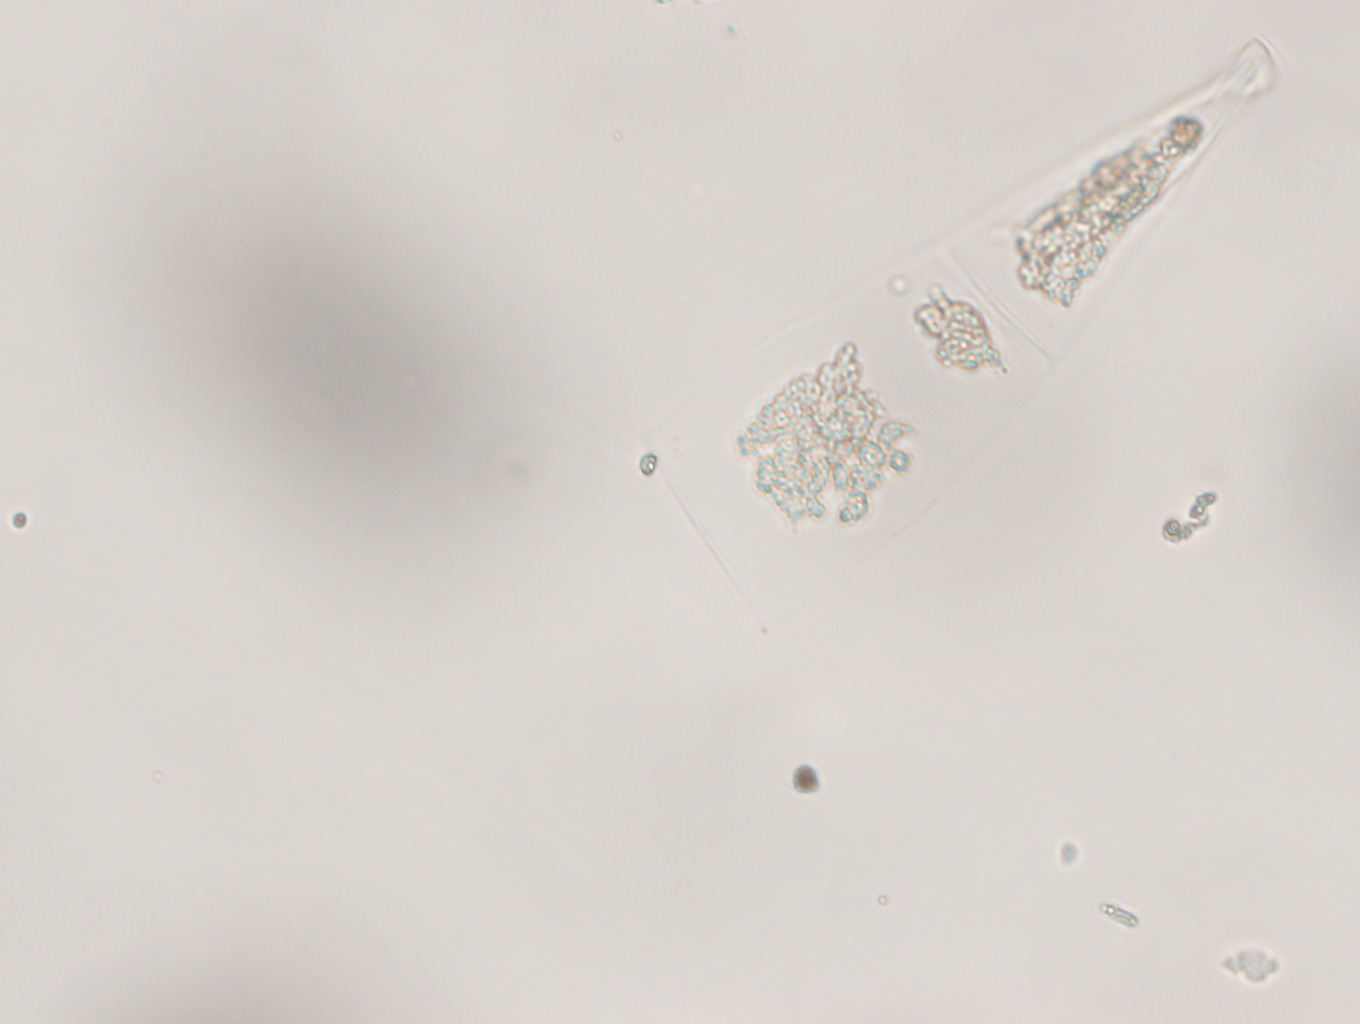helicotheca: (653, 25, 1299, 627)
